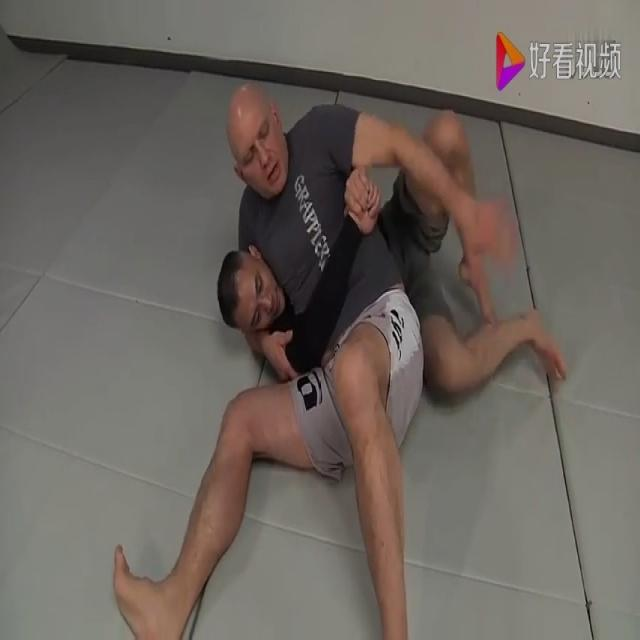fight: (50, 64, 611, 639)
